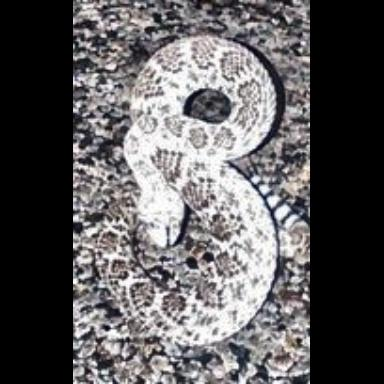snake: (91, 36, 278, 337)
